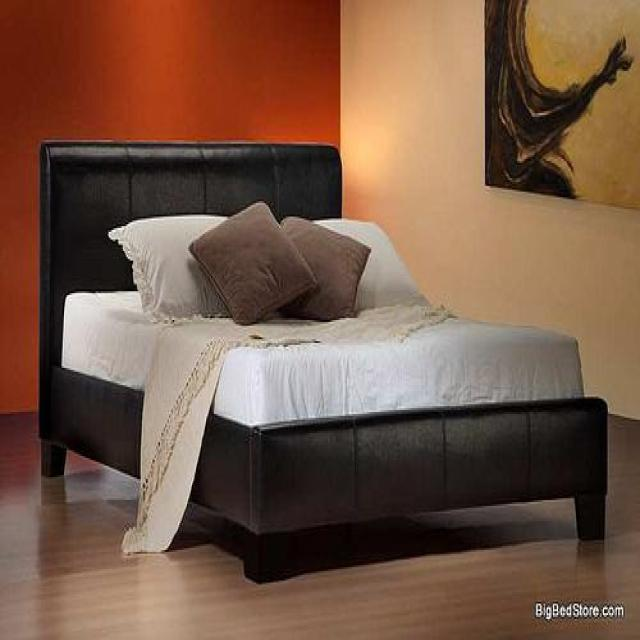bed: (37, 138, 608, 582)
